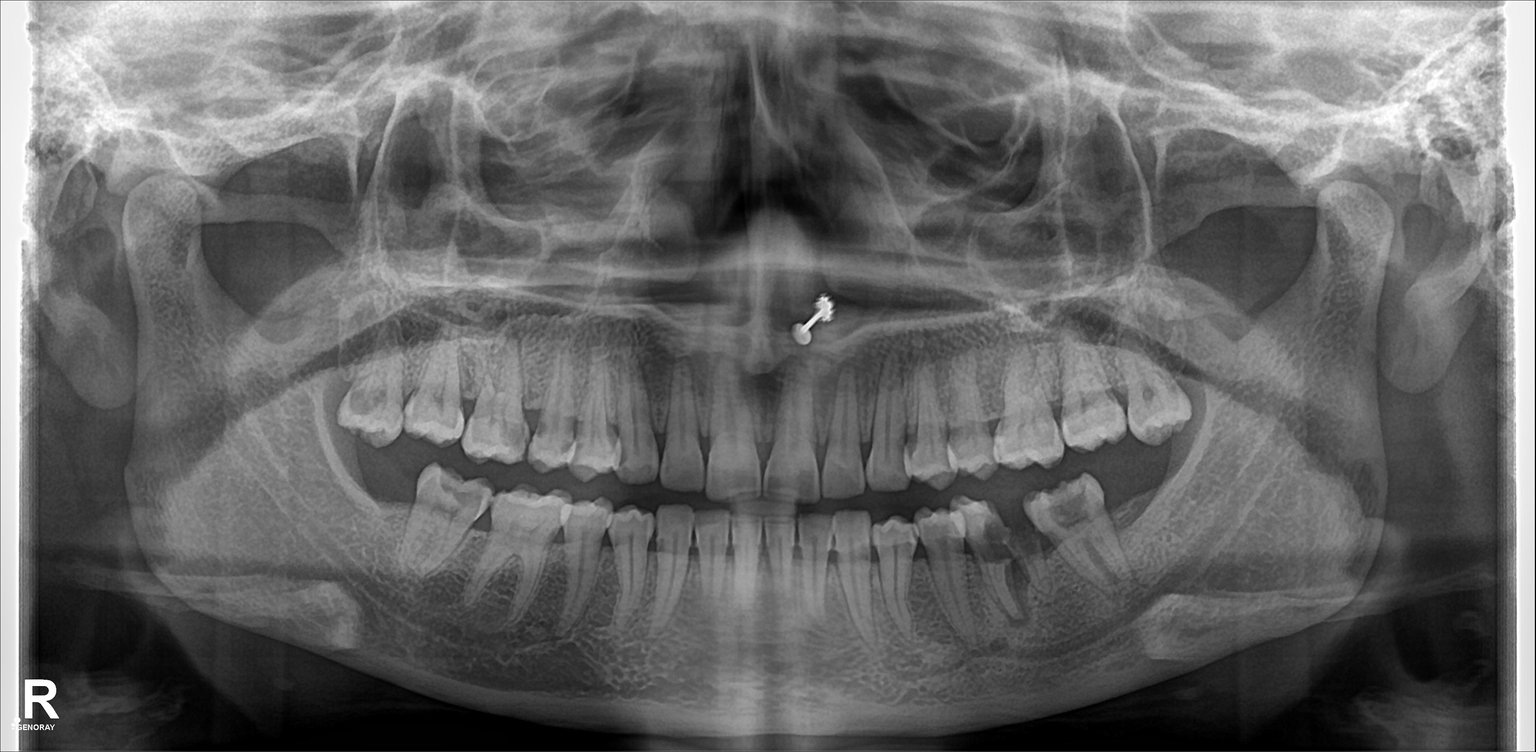Dental Caries: (1047, 490, 1092, 529), (980, 523, 1004, 566)
Missing Tooth: (358, 456, 410, 551), (1110, 471, 1170, 550)
Retained Root: (1004, 512, 1041, 588)
